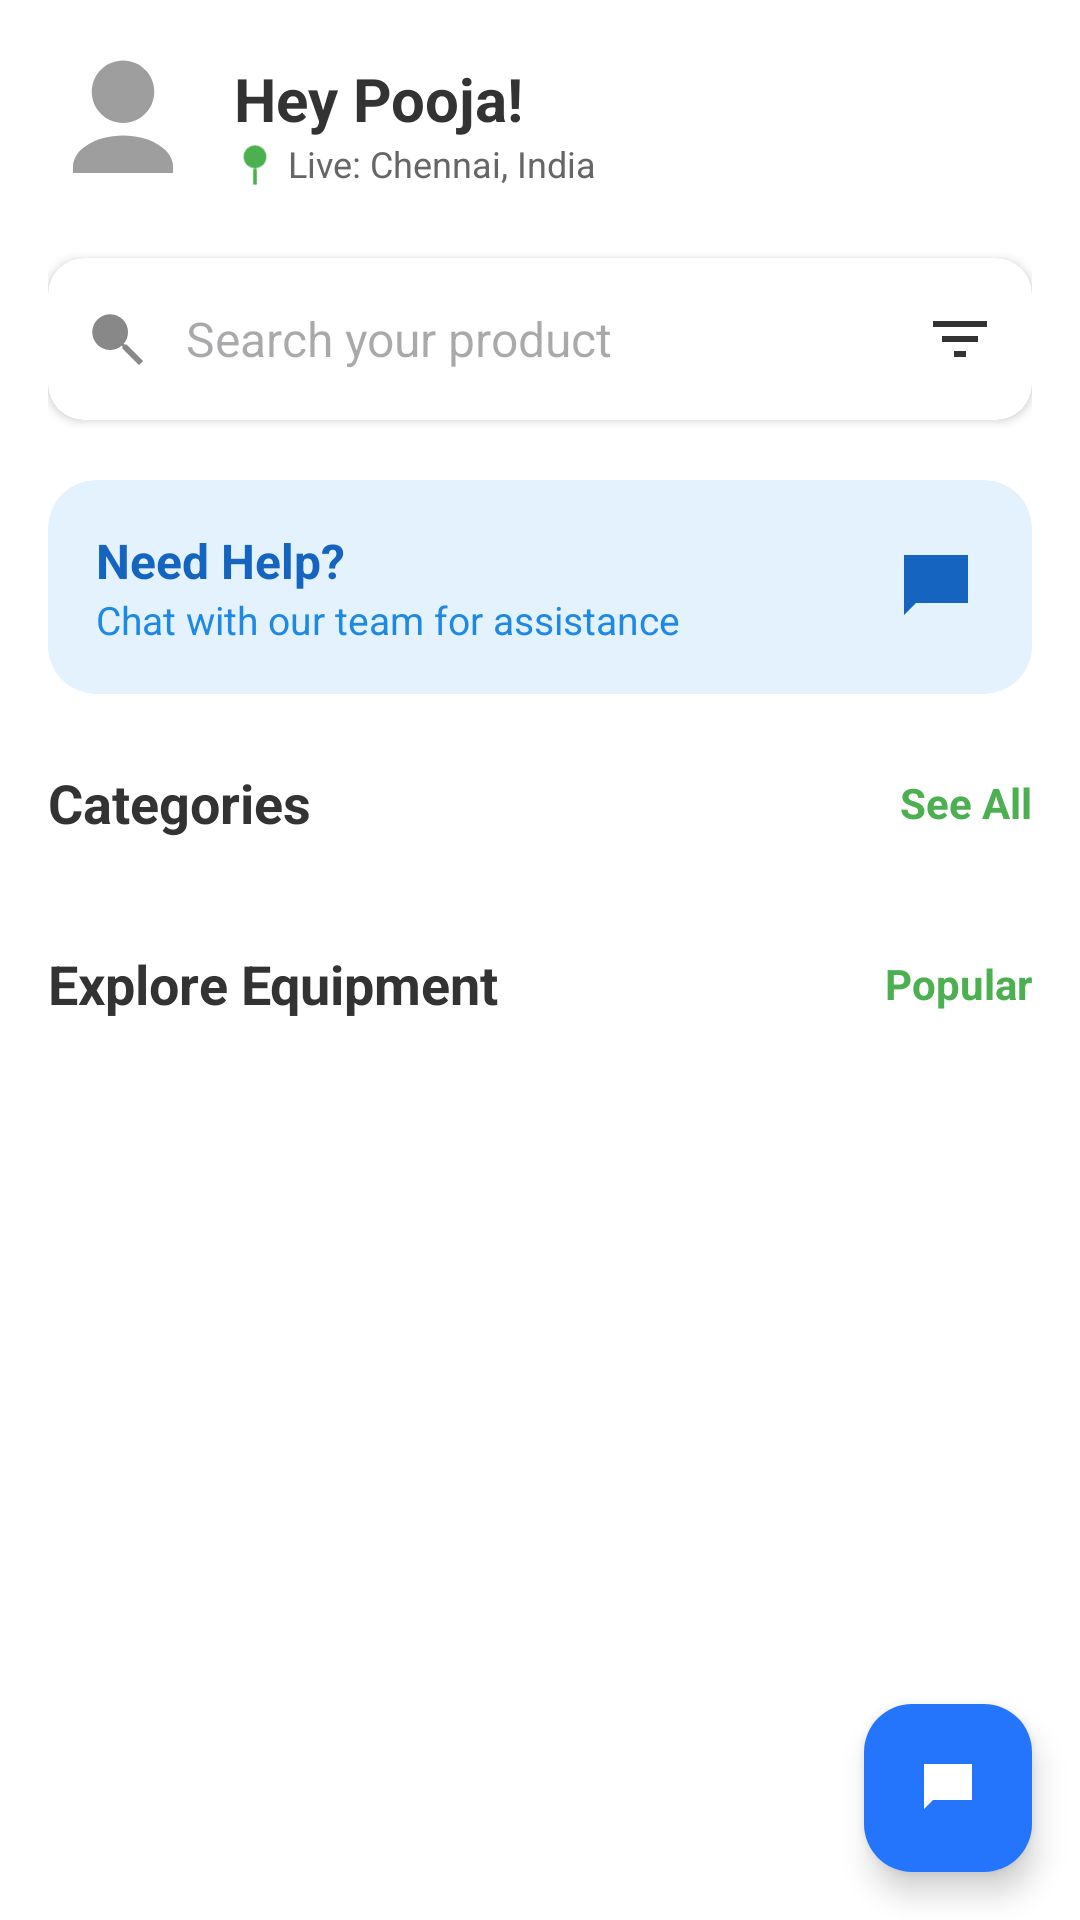

Where to tap for icons on this 1080px x 1920px app screen, as (x,y):
AI Chat: (948,1788)
filter: (960,339)
profile: (123,116)
